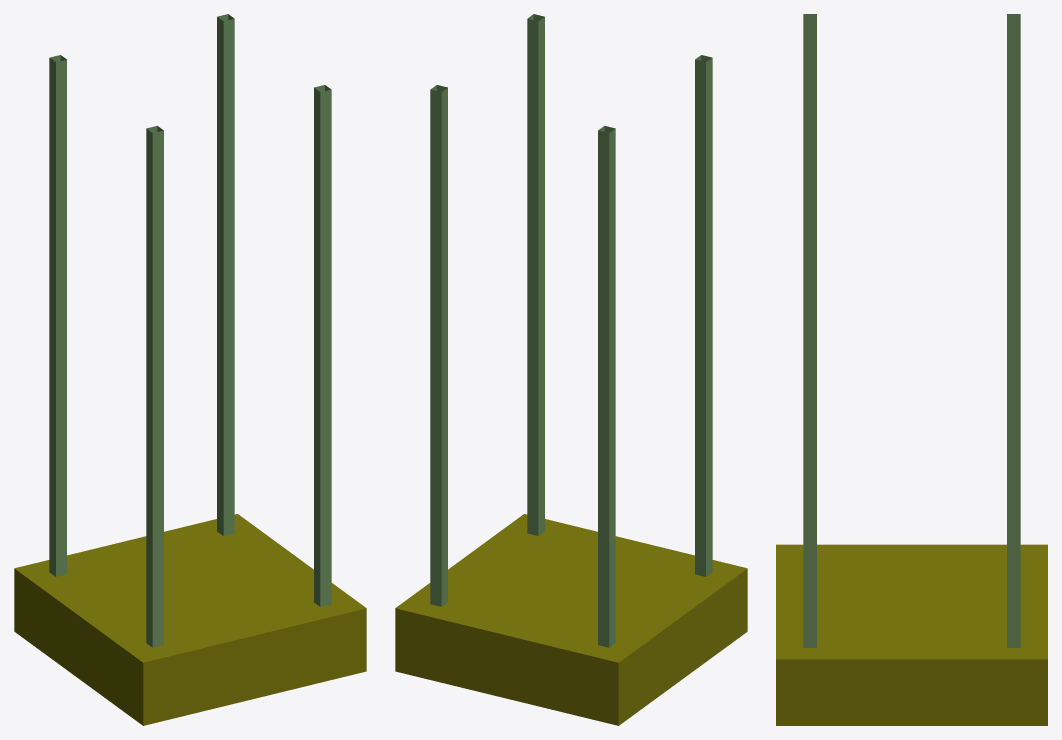
The model's file is fbx_HallLamp_V1.0.fbx.
3 renders of one model, left to right at view 1: azimuth 30°, elevation 25°; view 2: azimuth 150°, elevation 25°; view 3: azimuth 270°, elevation 25°, orthographic. The views are drawn at different scales.
Visible parts, largest first — view 1: pCube130; view 2: pCube130; view 3: pCube130.
Part boxes in pixels (x1,y1,x2,y2): pCube130: (14,14,366,725); pCube130: (395,14,747,725); pCube130: (776,14,1047,725).
Size of the model in its own units: 250 by 618 by 250.
